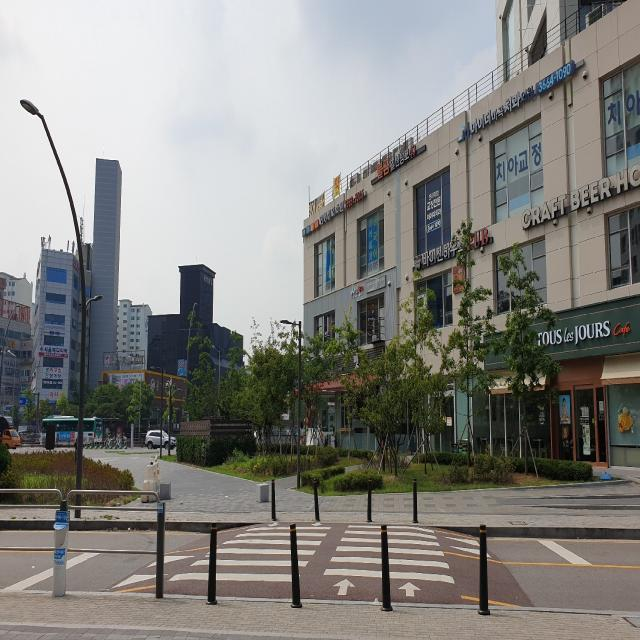횡단보도: (166, 520, 455, 598)
